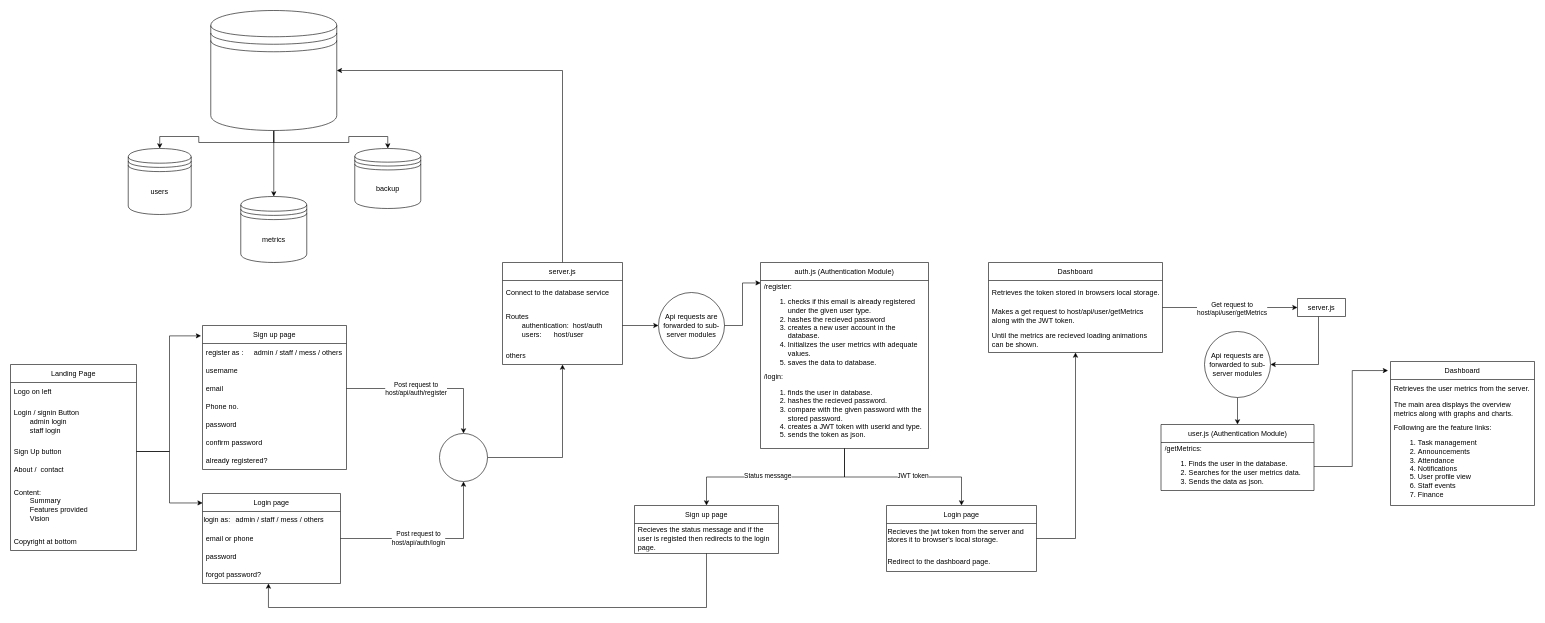
The diagram is 1545 pixels wide and 623 high, and some of its shapes have lost their labels. The centre of each missing label's shape, as x and y in pixels:
"API REQUESTS" goes at pixel 463 457.
"Staff management DB" goes at pixel 273 70.
